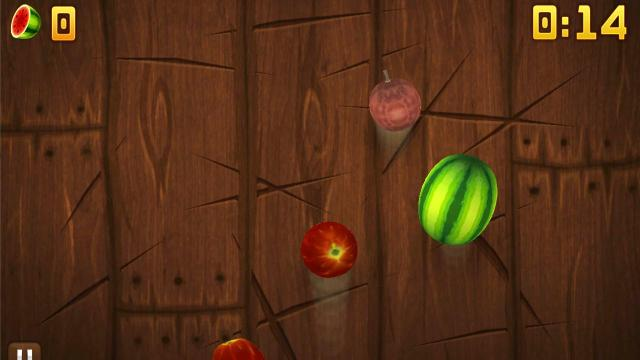fruit: (418, 153, 498, 246), (301, 220, 359, 278), (368, 75, 422, 133), (212, 336, 266, 360)
ignore: (8, 2, 44, 42)
